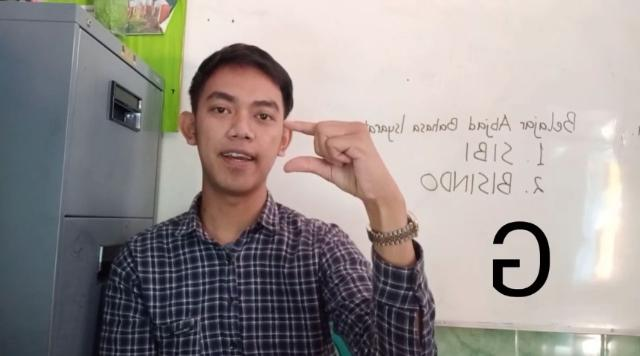G: (281, 119, 397, 197)
